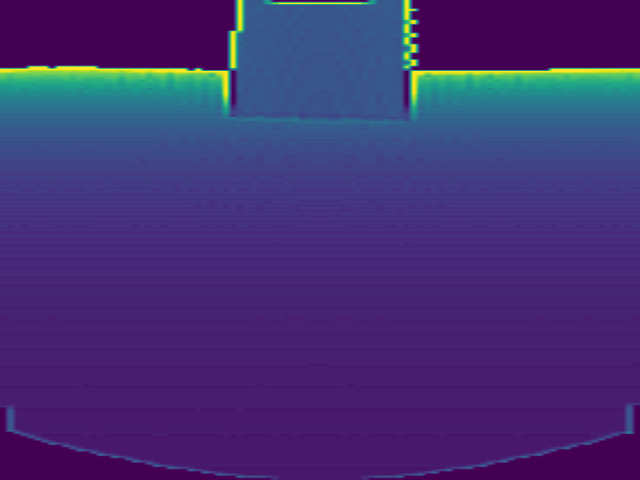cylinder: (222, 1, 419, 123)
